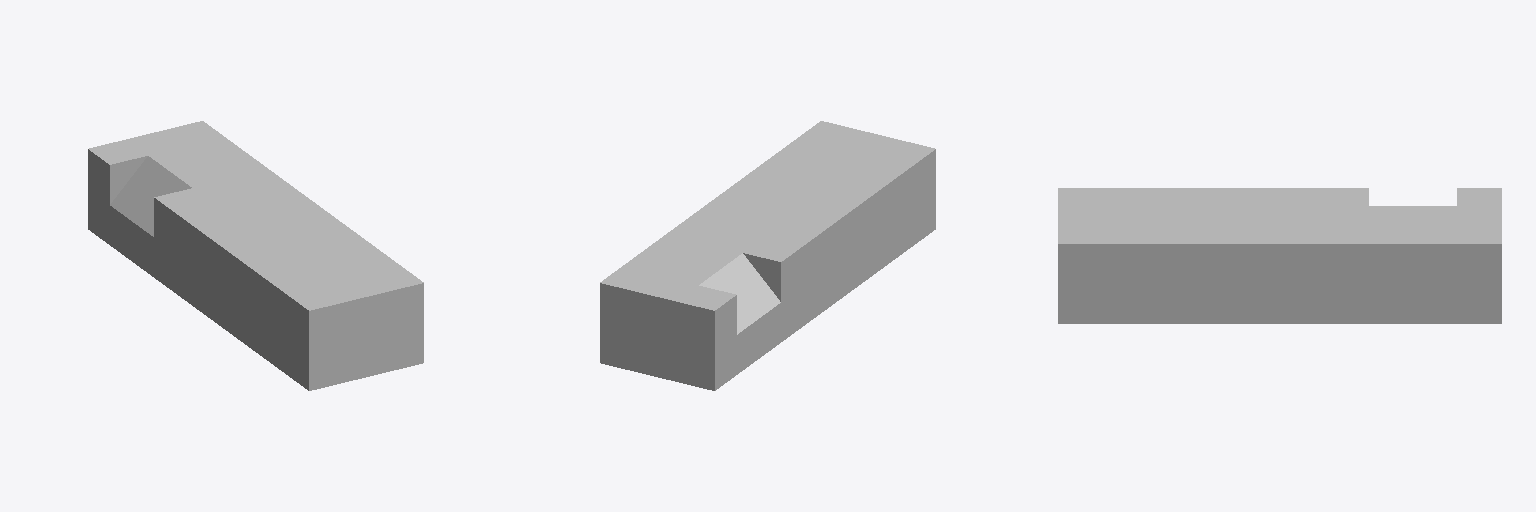
Rendered from Sidewalk6.obj.
3 renders of one model, left to right at view 1: azimuth 30°, elevation 25°; view 2: azimuth 150°, elevation 25°; view 3: azimuth 270°, elevation 25°, orthographic.
Parts seen in each view (by area): view 1: SIDEWALK-MAIN, SIDEWALK-EDGE-2, RAMP, SIDEWALK-EDGE-1; view 2: SIDEWALK-MAIN, SIDEWALK-EDGE-2, SIDEWALK-EDGE-1, RAMP; view 3: SIDEWALK-MAIN, SIDEWALK-EDGE-2, SIDEWALK-EDGE-1.
Part boxes in pixels (x1,y1,x2,y2): SIDEWALK-MAIN: (126, 121, 423, 381); SIDEWALK-EDGE-2: (154, 188, 347, 390); RAMP: (110, 156, 191, 276); SIDEWALK-EDGE-1: (88, 140, 147, 244); SIDEWALK-MAIN: (600, 121, 897, 381); SIDEWALK-EDGE-2: (743, 140, 935, 341); SIDEWALK-EDGE-1: (676, 285, 736, 390); RAMP: (699, 253, 780, 374); SIDEWALK-MAIN: (1058, 206, 1501, 323); SIDEWALK-EDGE-2: (1058, 188, 1368, 205); SIDEWALK-EDGE-1: (1457, 188, 1501, 205).
Size of the model in its own units: 3 by 2 by 10.